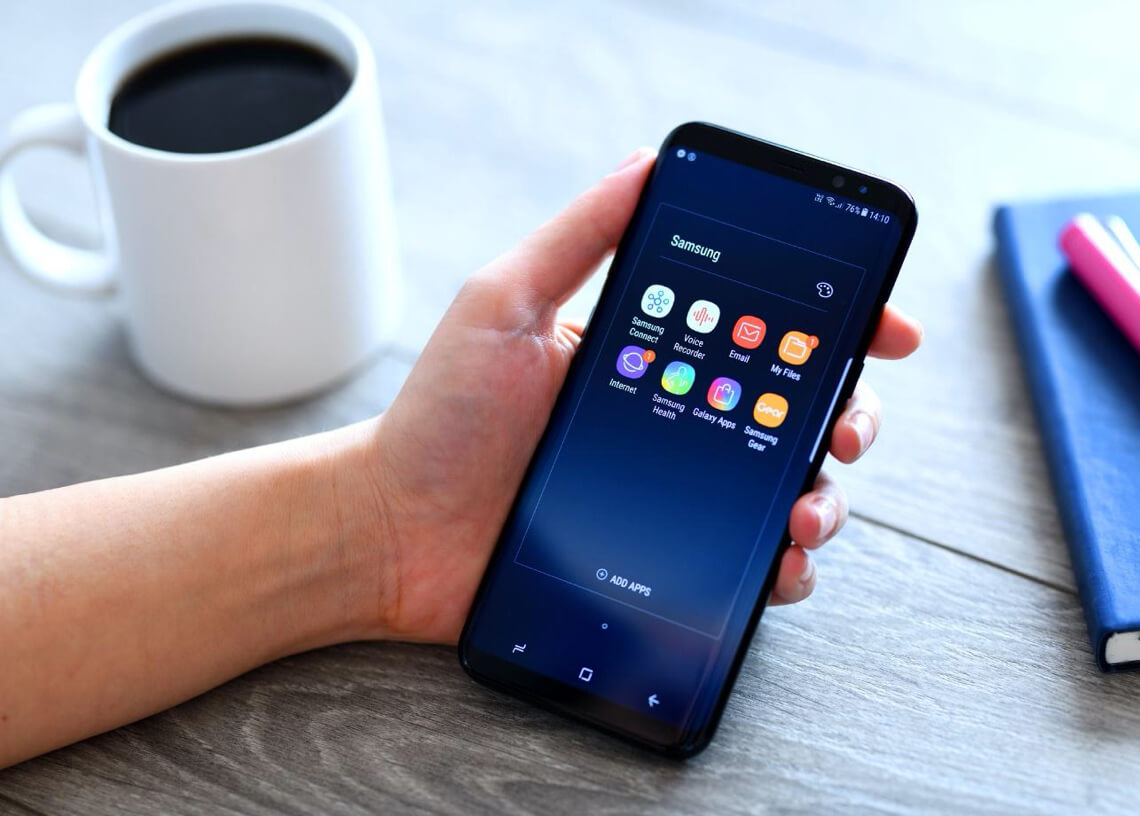Cell Phone: (478, 125, 907, 765)
